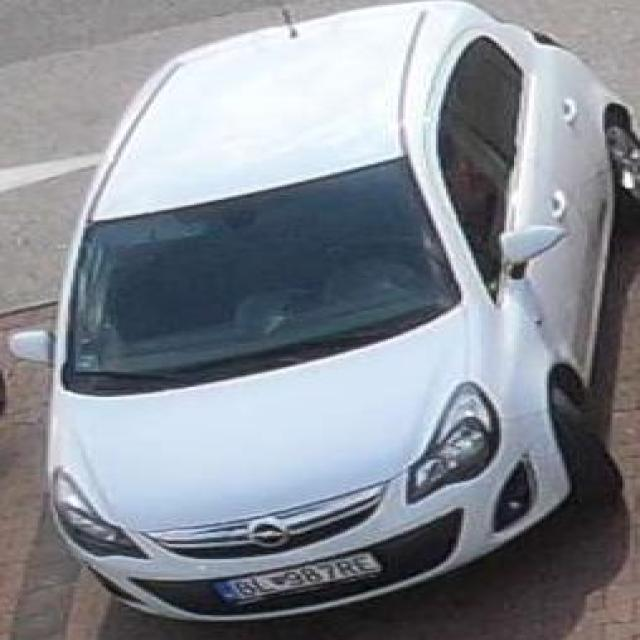Car: (91, 48, 574, 624)
